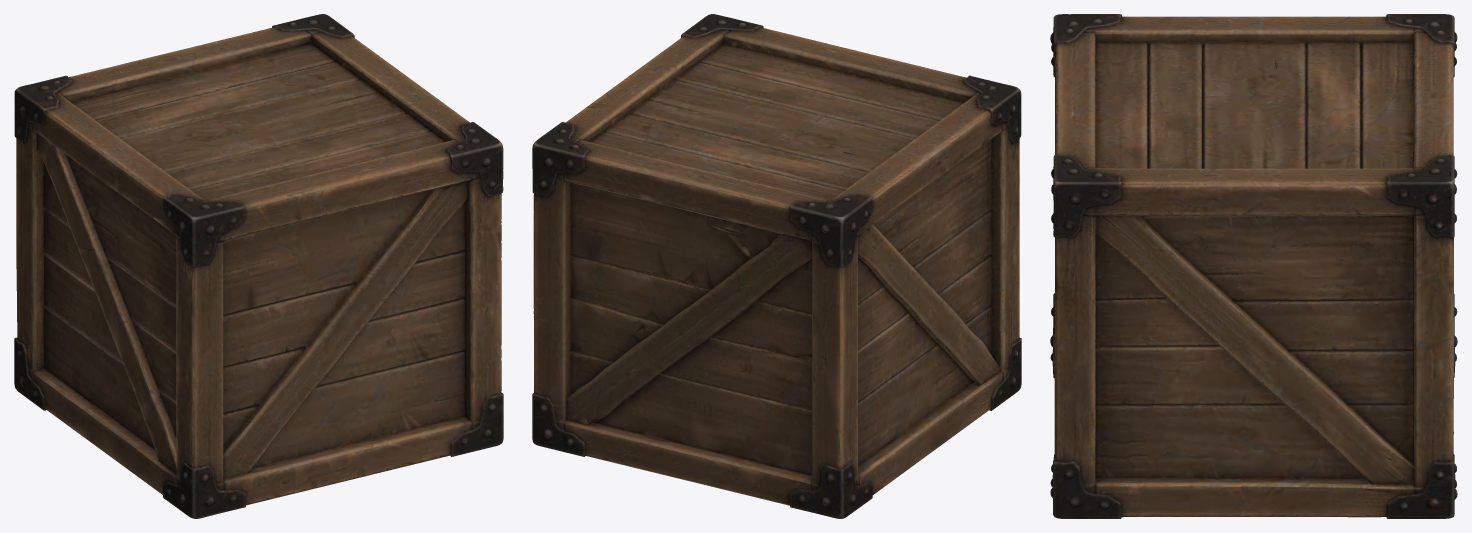
The model's file is wooden-crate-2.glb.
3 views of the same model, side by side, from view 1: azimuth 30°, elevation 25°; view 2: azimuth 150°, elevation 25°; view 3: azimuth 270°, elevation 25° (orthographic). The views are drawn at different scales.
Parts seen in each view (by area): view 1: mesh_node; view 2: mesh_node; view 3: mesh_node.
Boxes of the visible parts, x1=… form: mesh_node: x1=14, y1=14, x2=503, y2=518; mesh_node: x1=532, y1=14, x2=1021, y2=518; mesh_node: x1=1050, y1=14, x2=1457, y2=518.
Size of the model in its own units: 1.9 by 1.76 by 1.9.
1 material, 1 textured.
